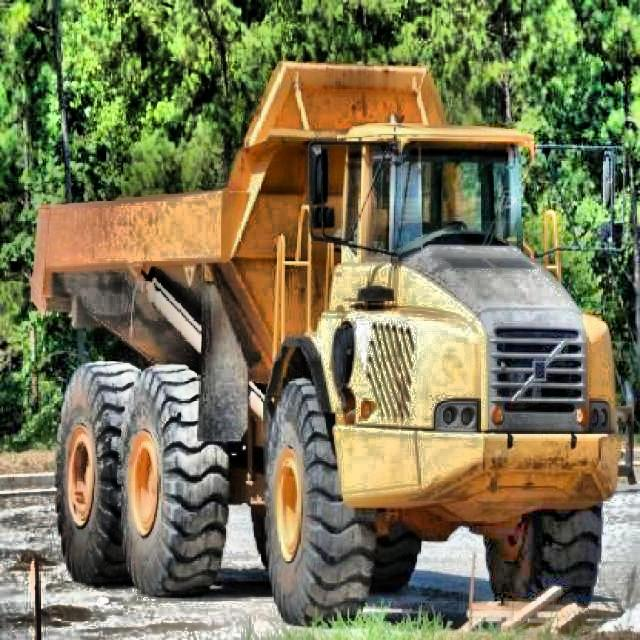dump_truck: (22, 45, 628, 630)
